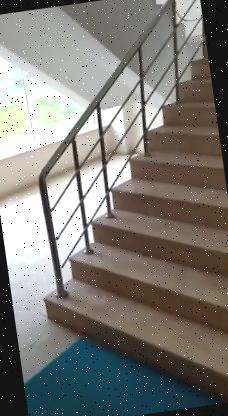stair: (25, 40, 228, 416)
